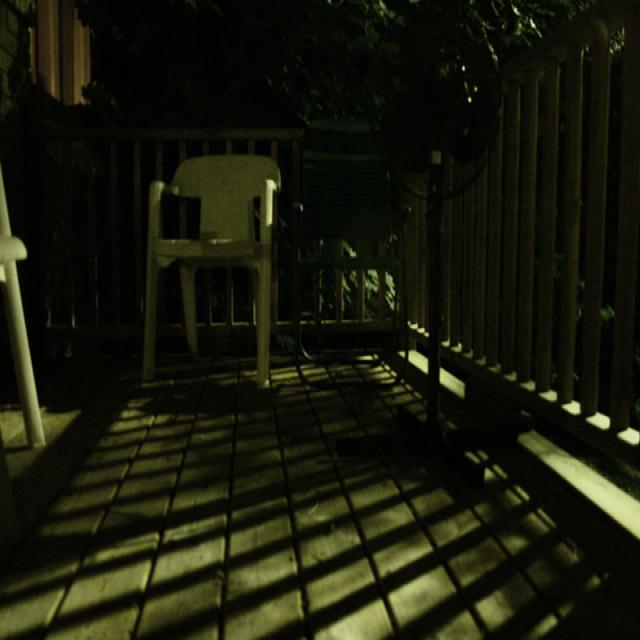chair: (134, 139, 285, 414), (0, 116, 52, 488)
